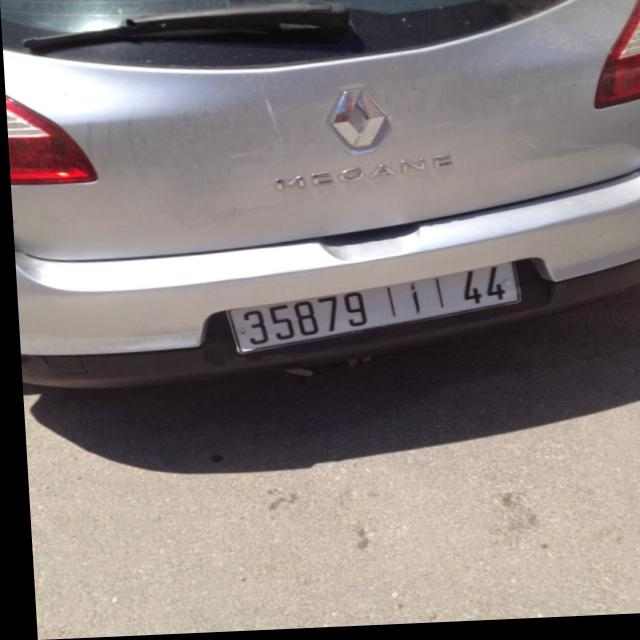License-Plate: (223, 268, 515, 355)
